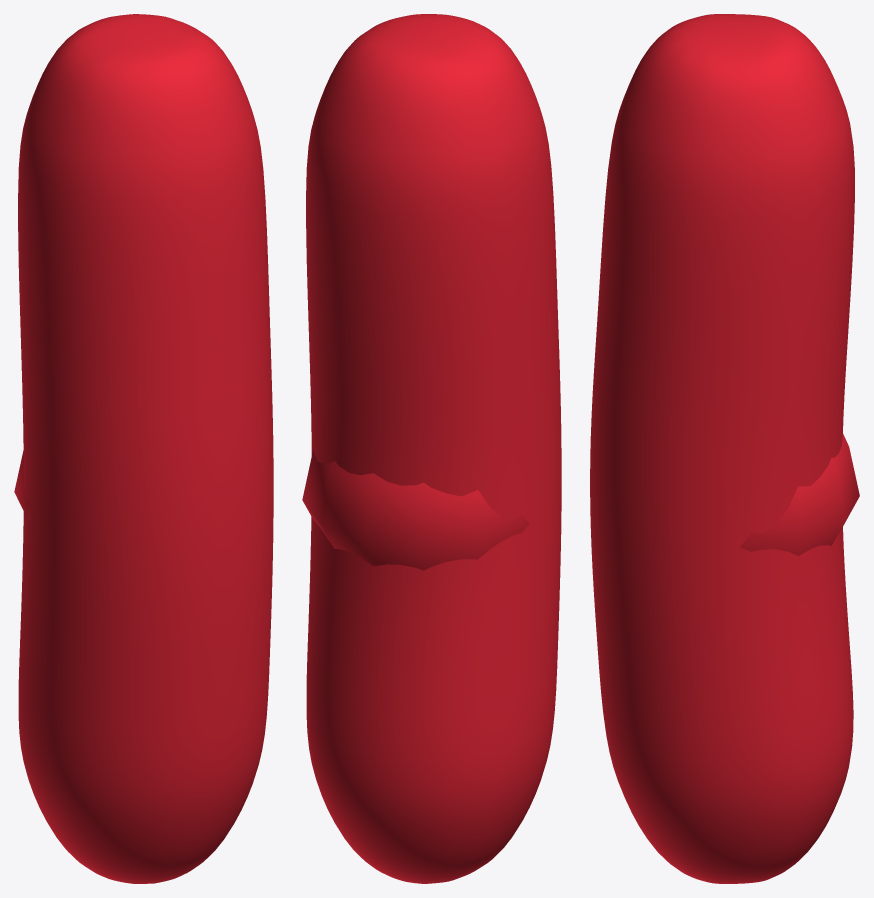
Rendered from Strawberry_LowPoly.fbx.
The picture shows the model from 3 angles, left to right: view 1: azimuth 30°, elevation 25°; view 2: azimuth 150°, elevation 25°; view 3: azimuth 270°, elevation 25°; orthographic projection.
Visible parts, largest first — view 1: Cylinder.003; view 2: Cylinder.003, Cylinder.002; view 3: Cylinder.003, Cylinder.002.
Part boxes in pixels (bbox=[...]): Cylinder.003: bbox=[18, 14, 273, 883]; Cylinder.003: bbox=[306, 14, 561, 883]; Cylinder.002: bbox=[302, 450, 529, 570]; Cylinder.003: bbox=[590, 14, 854, 883]; Cylinder.002: bbox=[739, 434, 859, 556].
Bounding box in the file's own units: 227 × 849 × 247.
